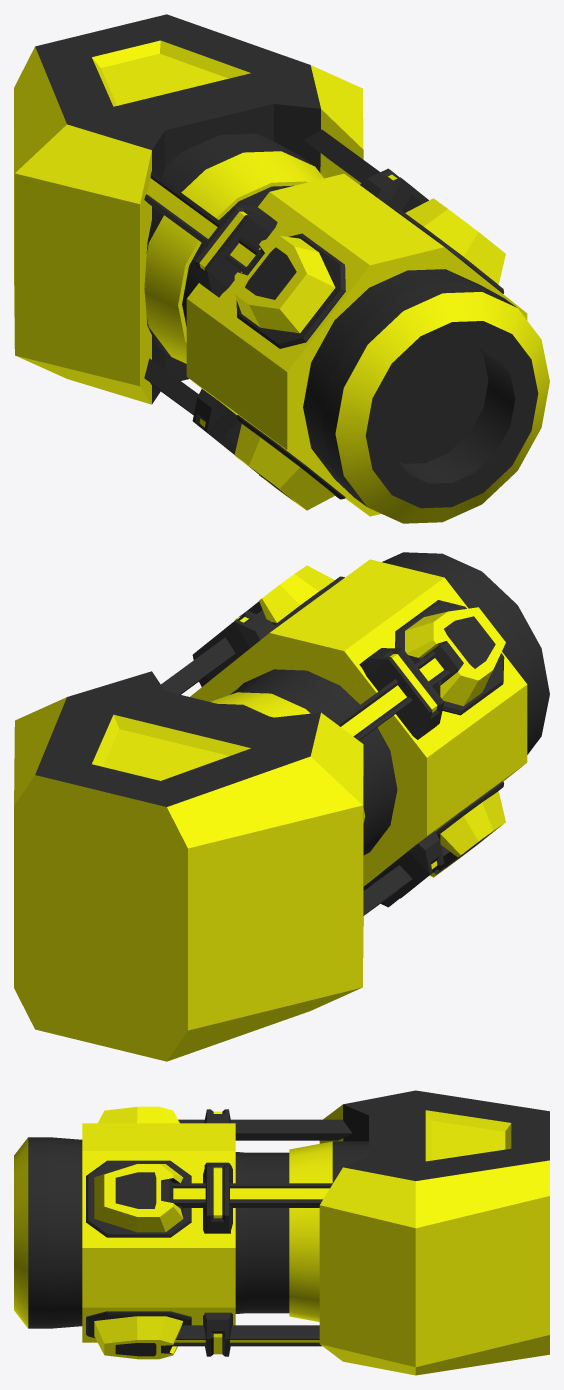
Rendered from SM_Module_Engine2_A_BO.fbx.
The picture shows the model from 3 angles, top to bottom: view 1: azimuth 30°, elevation 25°; view 2: azimuth 150°, elevation 25°; view 3: azimuth 270°, elevation 25°; orthographic projection. The views are drawn at different scales.
Parts seen in each view (by area): view 1: SM_Module_Engine_B_BO.001, SM_Module_Engine_B_BO.002, Cylinder, Cube.004, Cube.005; view 2: SM_Module_Engine_B_BO.001, Cylinder, Cube.004, SM_Module_Engine_B_BO.002, Cube.005; view 3: SM_Module_Engine_B_BO.001, SM_Module_Engine_B_BO.002, Cylinder, Cube.004, Cube.005.
Boxes of the visible parts, box(x1,y1,x2,y2) form: SM_Module_Engine_B_BO.001: box(14, 14, 363, 404); SM_Module_Engine_B_BO.002: box(144, 133, 549, 523); Cylinder: box(186, 173, 527, 516); Cube.004: box(192, 168, 505, 510); Cube.005: box(144, 129, 422, 445); SM_Module_Engine_B_BO.001: box(14, 671, 363, 1061); Cylinder: box(190, 559, 527, 886); Cube.004: box(192, 565, 505, 907); SM_Module_Engine_B_BO.002: box(210, 552, 549, 855); Cube.005: box(161, 610, 449, 915); SM_Module_Engine_B_BO.001: box(319, 1090, 549, 1375); SM_Module_Engine_B_BO.002: box(14, 1137, 368, 1328); Cylinder: box(82, 1123, 235, 1342); Cube.004: box(86, 1106, 232, 1359); Cube.005: box(172, 1119, 352, 1346).
Size of the model in its own units: 4 by 6.99 by 2.81.
